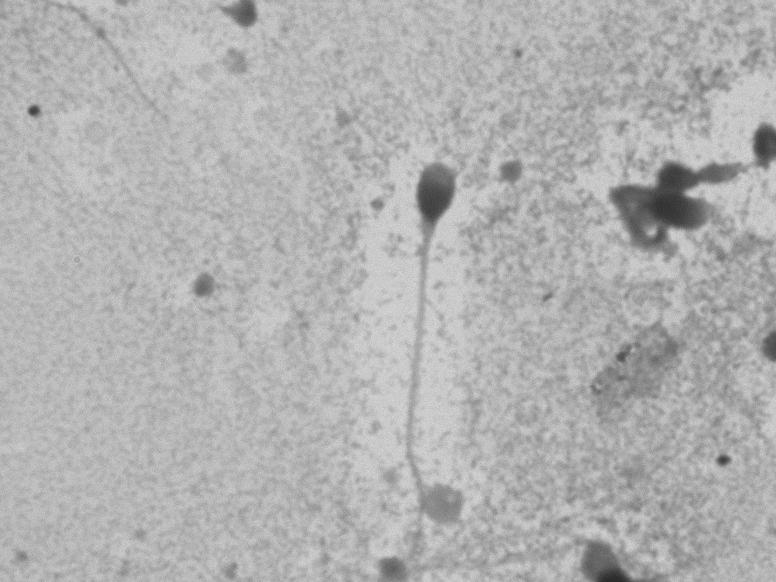Normal: (355, 144, 473, 568)
